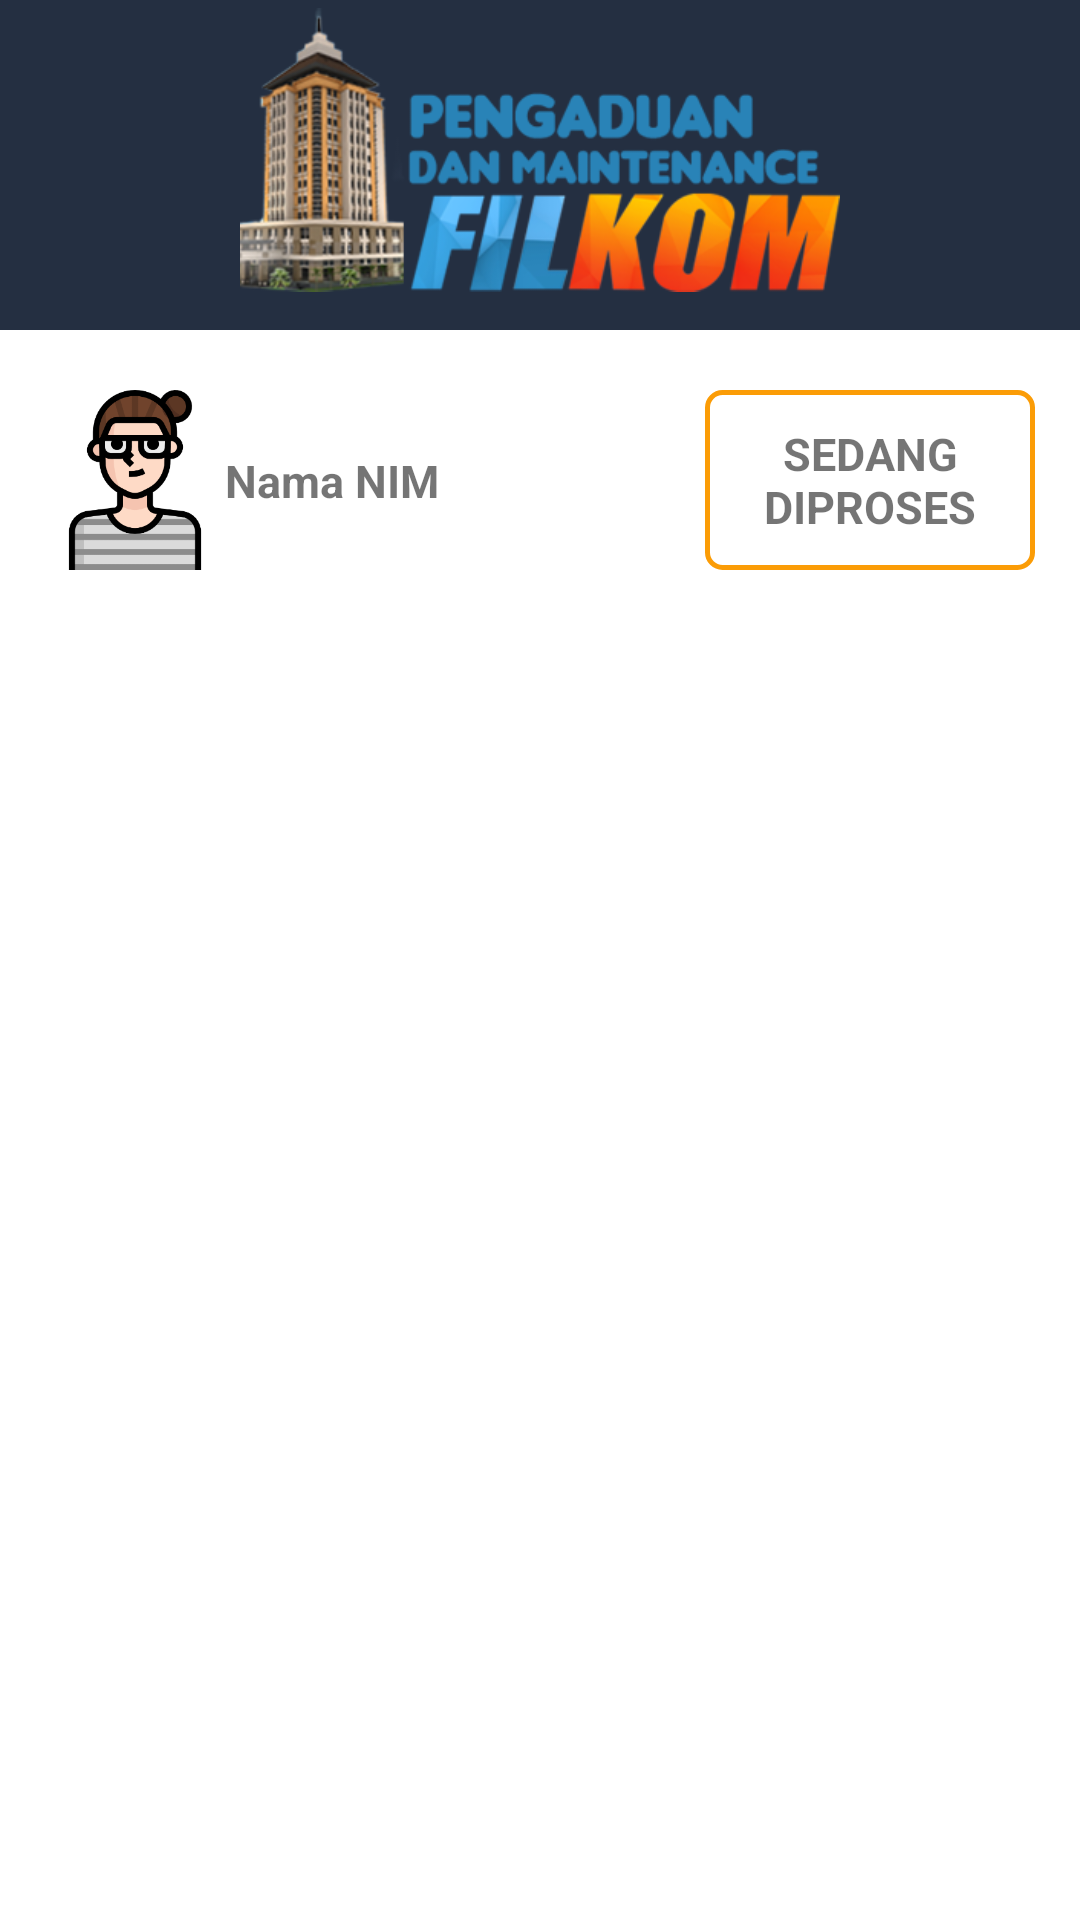

Where icons sit on this 1080w x 1920h app screen, as (x1, y1, x2, y2):
woman: (69, 390, 202, 570)
